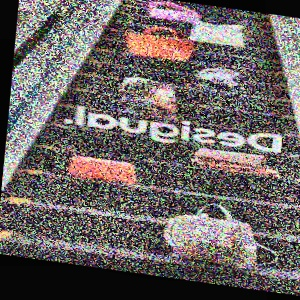desigual: (260, 74, 300, 200)
